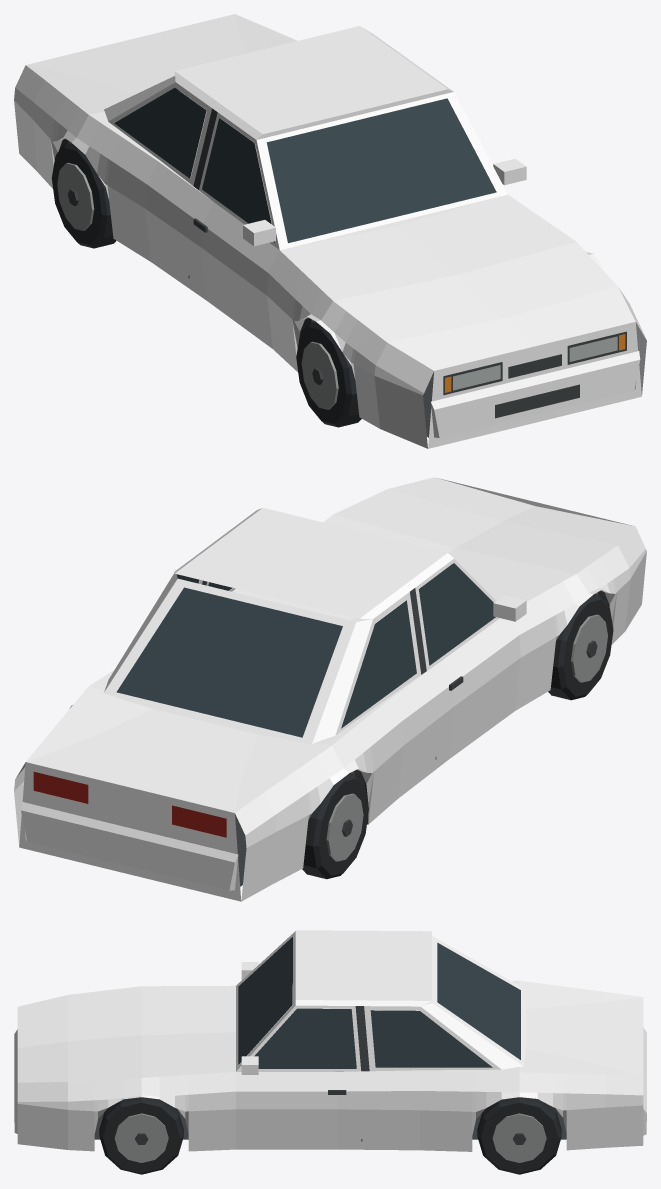
The model's file is arvelle_hatchet_s_98.glb.
The picture shows the model from 3 angles, top to bottom: view 1: azimuth 30°, elevation 25°; view 2: azimuth 150°, elevation 25°; view 3: azimuth 270°, elevation 25°; orthographic projection. The views are drawn at different scales.
Visible parts, largest first — view 1: arvelle_hatchet_s_98; view 2: arvelle_hatchet_s_98; view 3: arvelle_hatchet_s_98.
Boxes of the visible parts, bbox=[...] form: arvelle_hatchet_s_98: bbox=[14, 14, 646, 448]; arvelle_hatchet_s_98: bbox=[14, 477, 646, 901]; arvelle_hatchet_s_98: bbox=[14, 930, 646, 1174].
Size of the model in its own units: 1.75 by 1.25 by 4.47.
8 materials, 1 textured.
